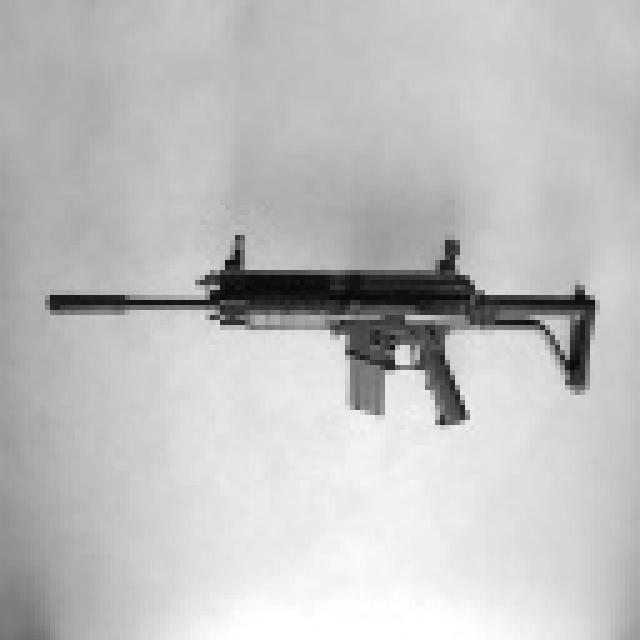Rifle: (41, 224, 609, 513)
